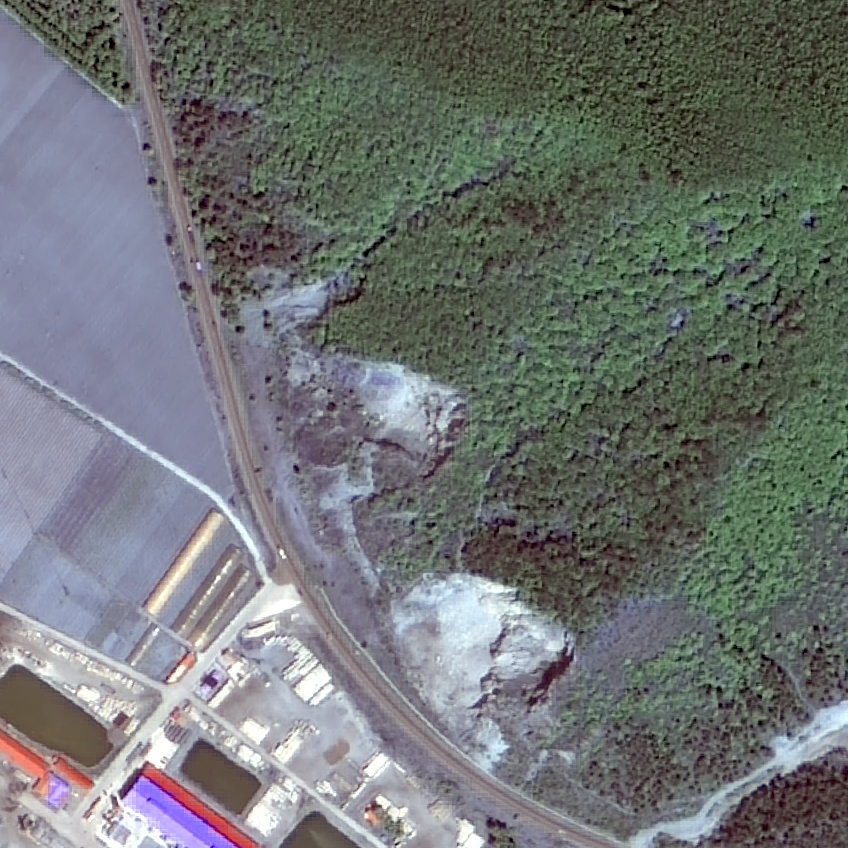slope: (239, 270, 471, 577), (365, 566, 586, 770)
